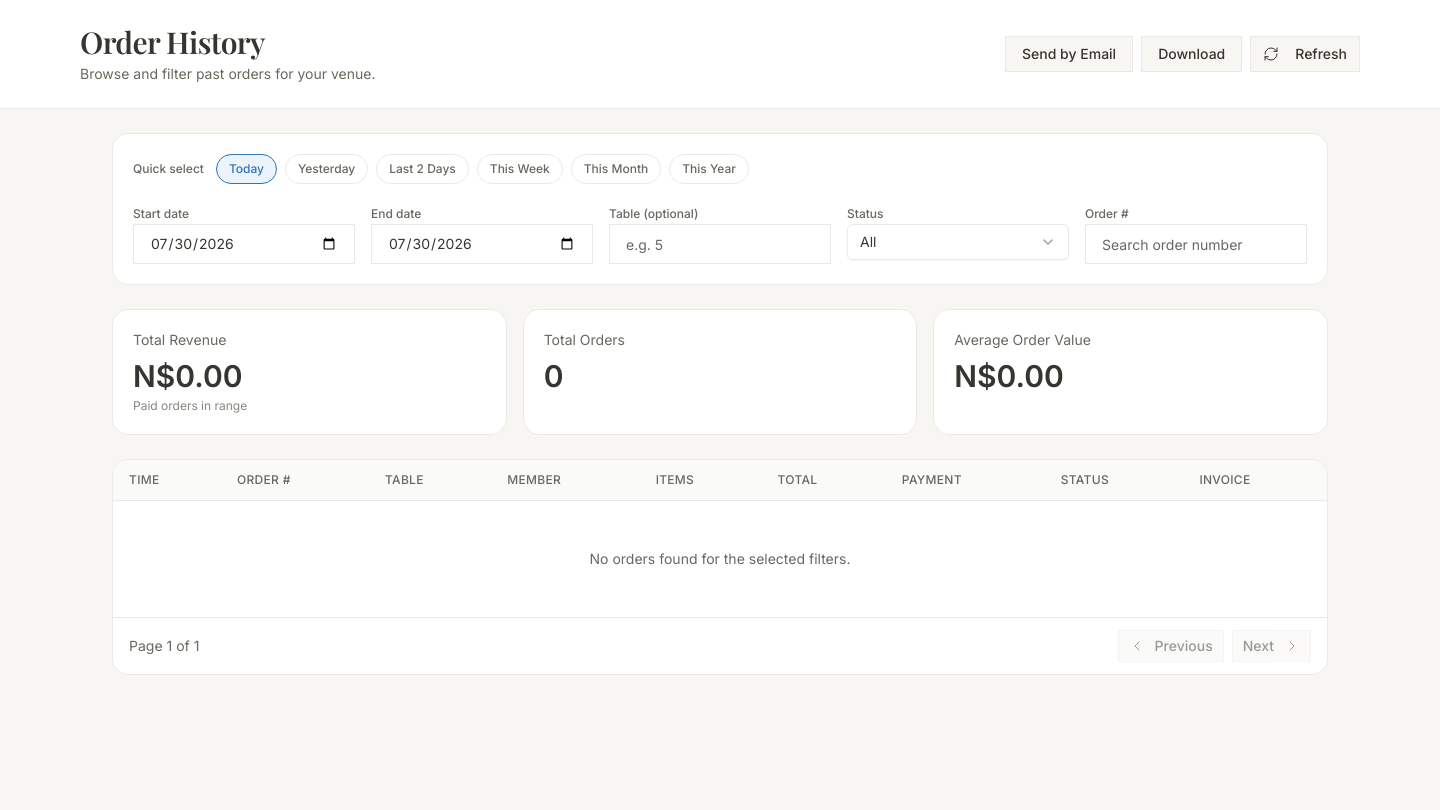
quick-select presets › Yesterday populates both fields and refreshes the results
Click the button "Yesterday" at (327, 169), box [285,154,368,184]
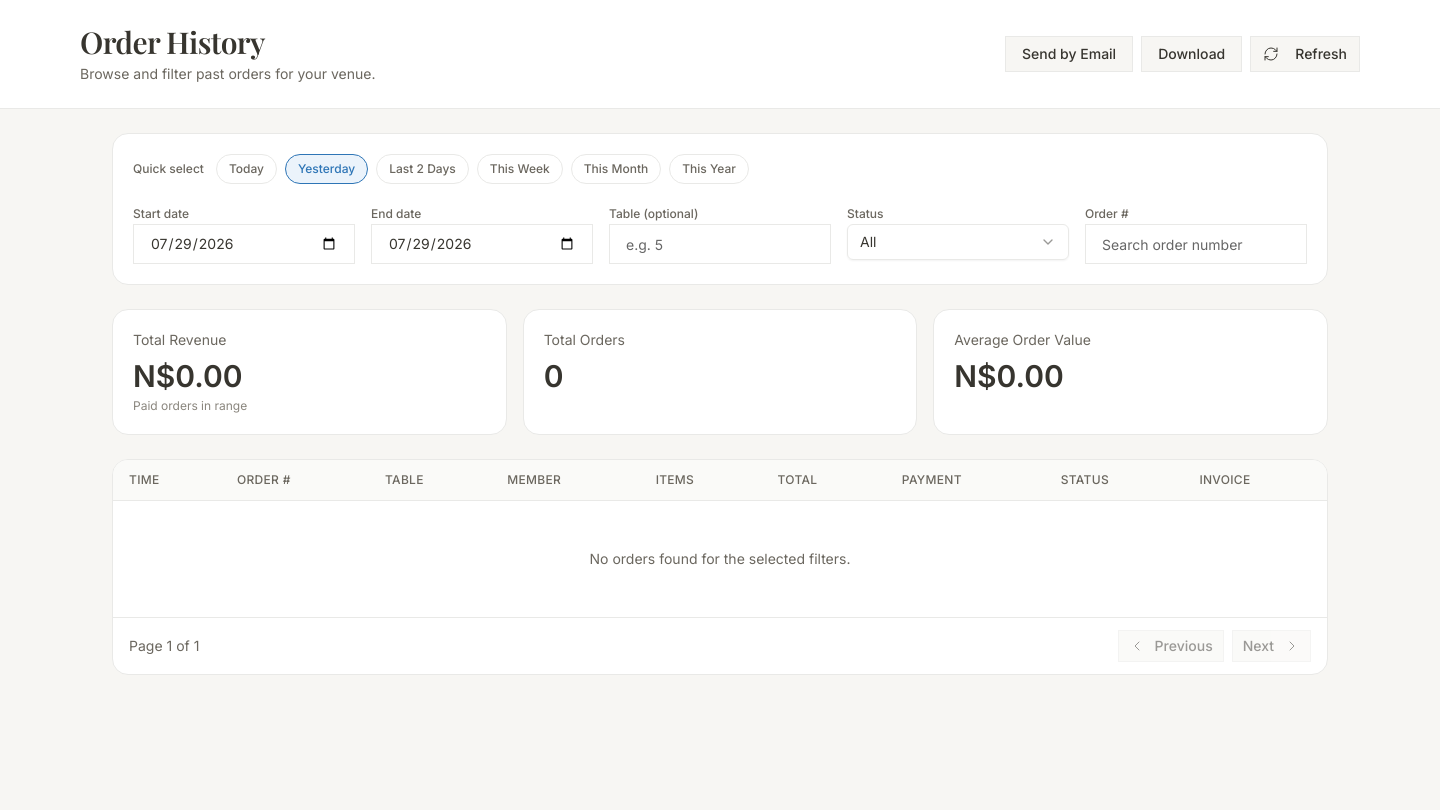
expect the date field below "End date" holds "2026-07-29": met, box [371,224,593,264]
